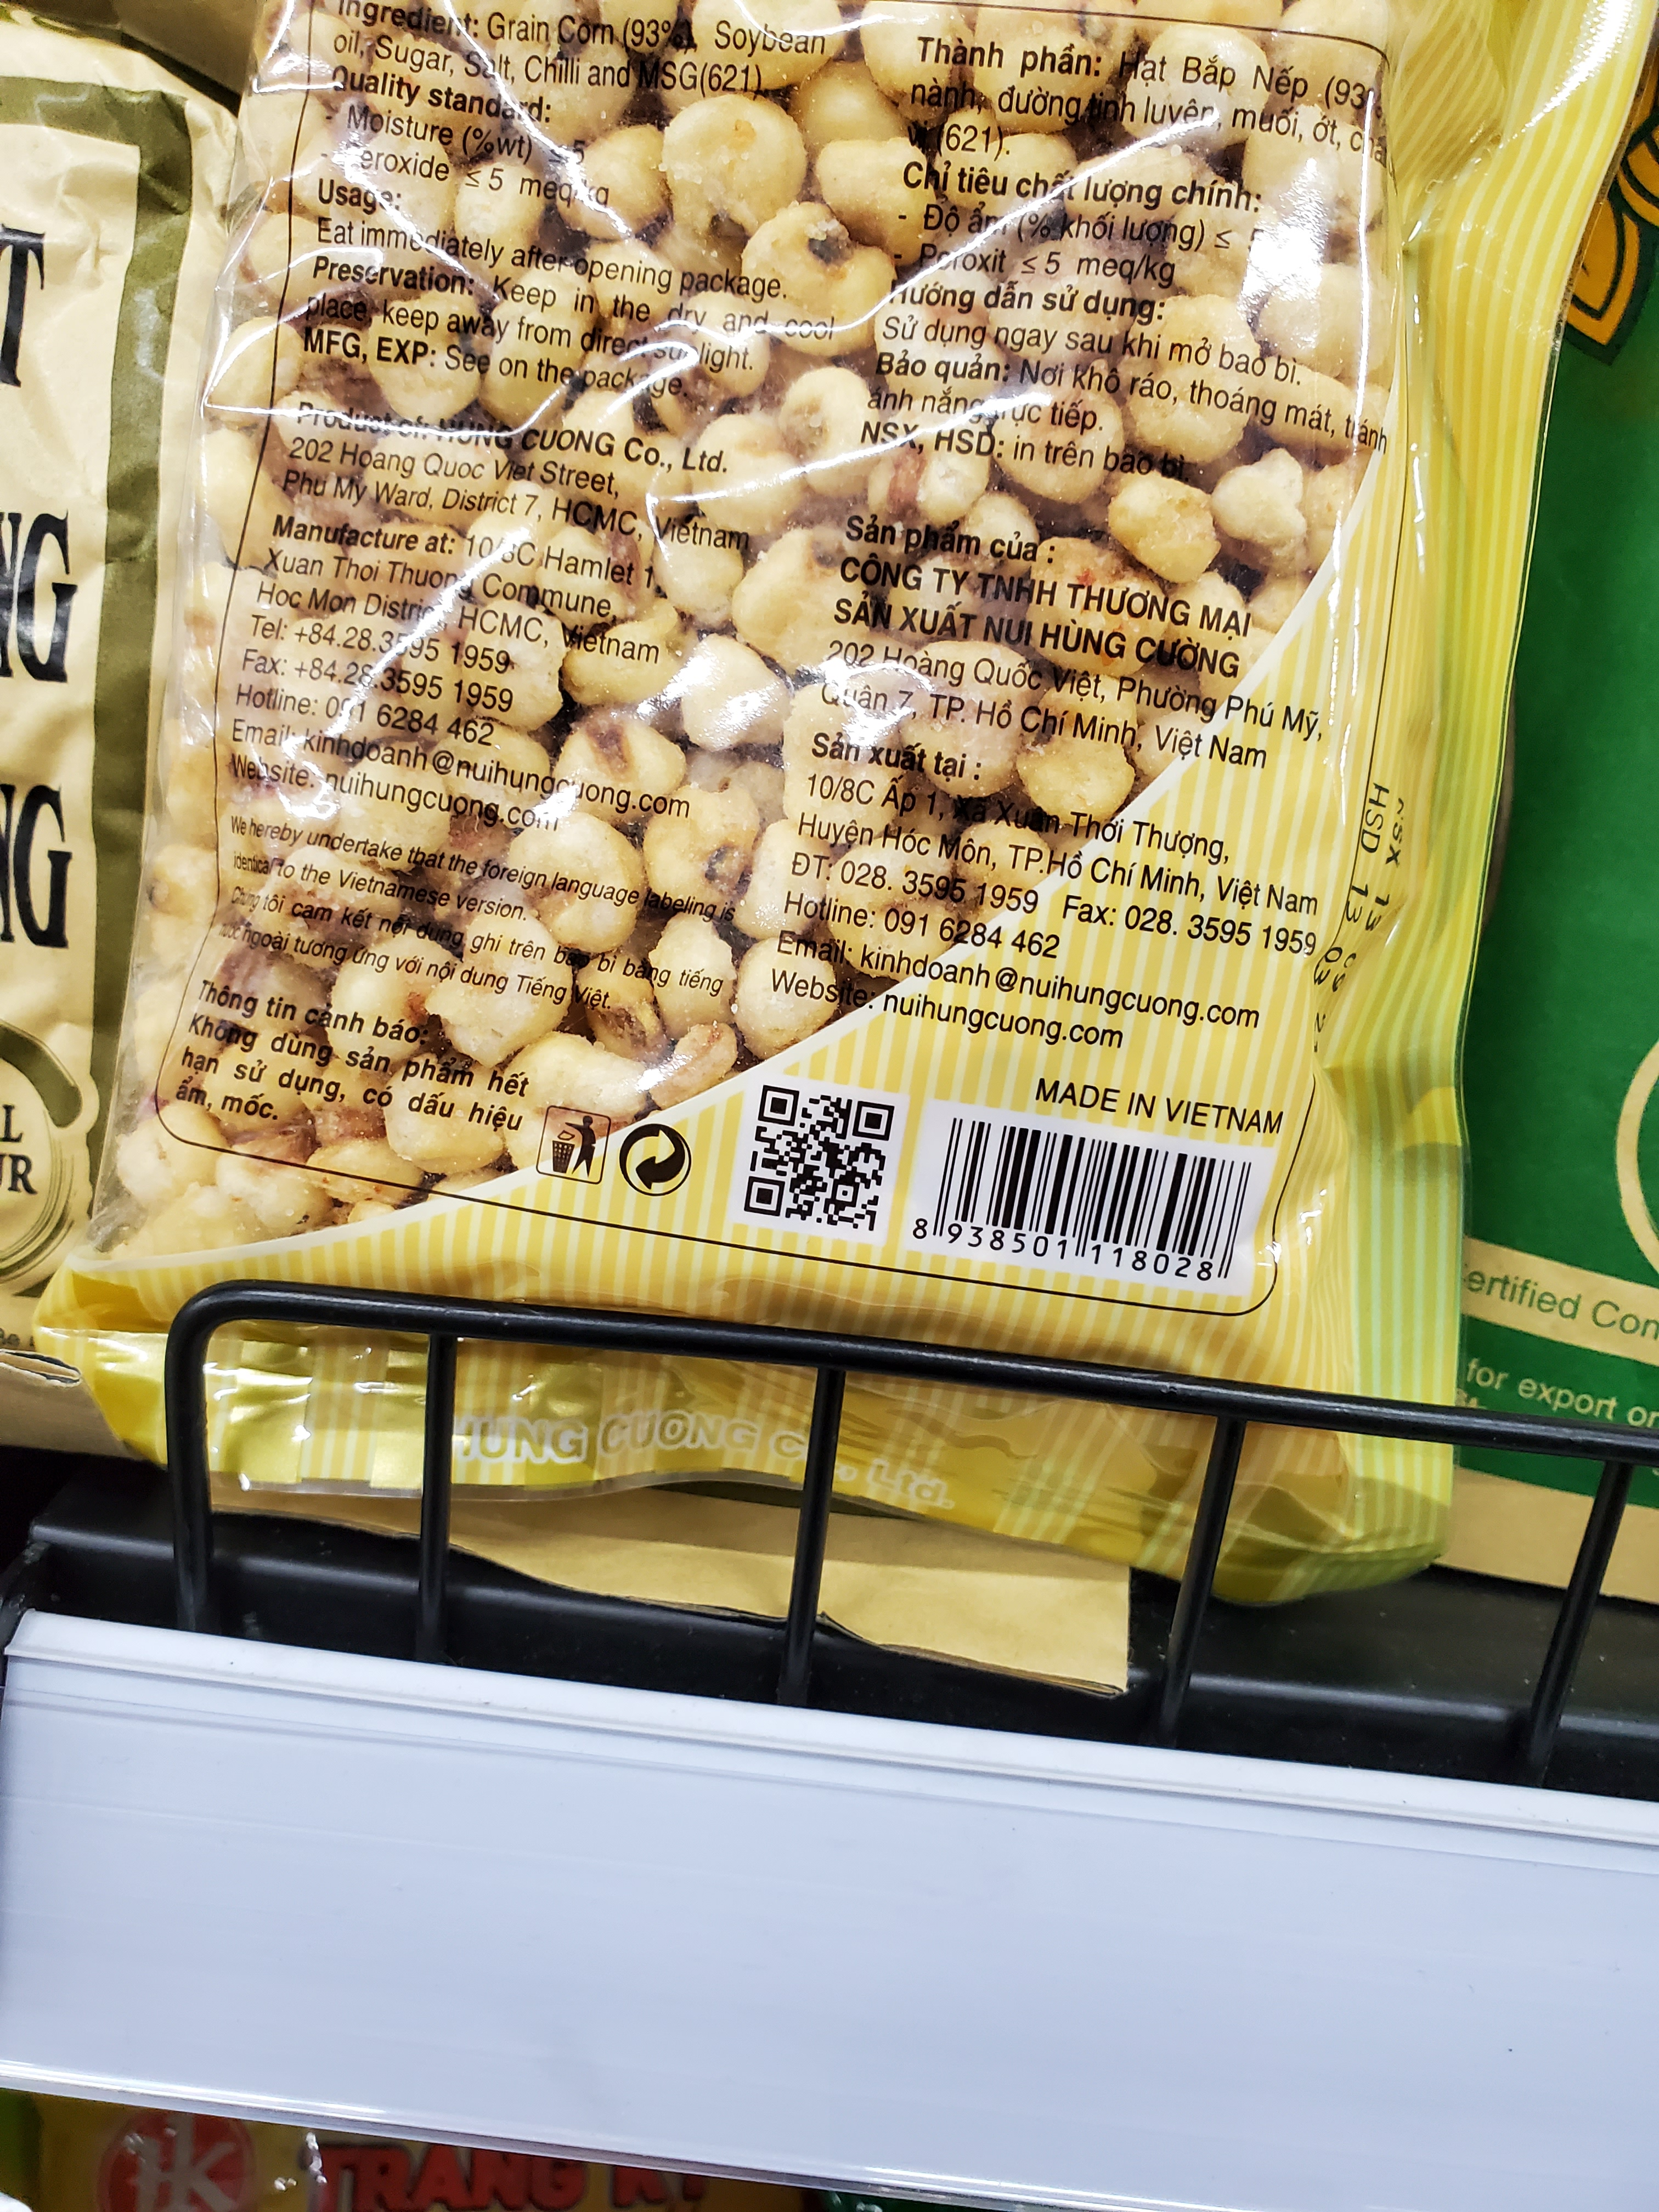barcode: (897, 1097, 1262, 1306)
qr code: (723, 1071, 908, 1261)
